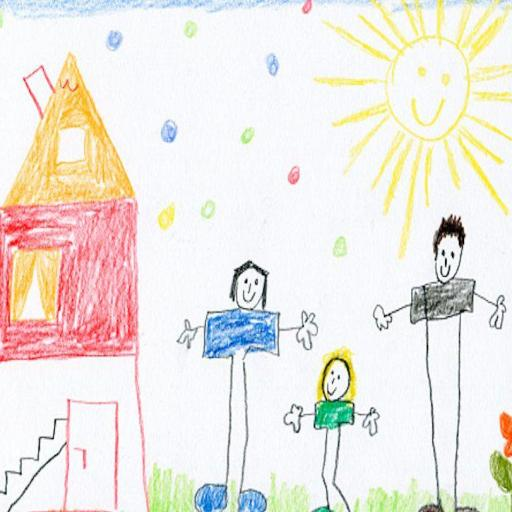person: (374, 212, 508, 511), (169, 258, 320, 511), (283, 345, 384, 511)
